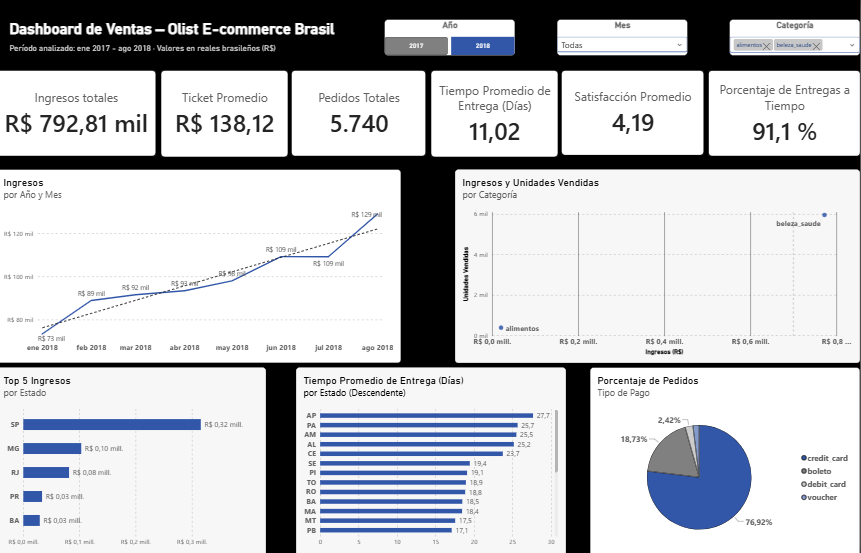

This screenshot's page, from the dashboard's own definition file:
{"tool":"powerbi","page":{"name":"KPIs","canvas":[1920,1250],"ordinal":0},"visuals":[{"type":"barChart","fields":{"Category":["brazilian_ecommerce tabla_analitica.customer_state"],"Y":["Medidas.ventas totales"]},"box":[0,830,600,420],"z":0},{"type":"cardVisual","fields":{"Data":["Medidas.ventas totales"]},"box":[0.8,170,355,190],"z":1000},{"type":"cardVisual","fields":{"Data":["Medidas.Pedidos Totales"]},"box":[657.6,170,298,190],"z":2000},{"type":"barChart","title":"Tiempo Promedio de Entrega (Días)","fields":{"Category":["brazilian_ecommerce tabla_analitica.customer_state"],"Y":["Medidas.Tiempo Promedio de Entrega"]},"box":[665.8,830,600,420],"z":3000},{"type":"cardVisual","fields":{"Data":["Medidas.Ticket Promedio"]},"box":[365.7,170,282,192],"z":4000},{"type":"cardVisual","fields":{"Data":["Medidas.Tiempo Promedio de Entrega"]},"box":[965.5,170,282,192],"z":5000},{"type":"lineChart","fields":{"Category":["brazilian_ecommerce tabla_analitica.order_purchase_timestamp.Variación.Jerarquía de fechas.Año","brazilian_ecommerce tabla_analitica.order_purchase_timestamp.Variación.Jerarquía de fechas.Mes"],"Y":["Medidas.Ingresos Totales"]},"box":[0,390,900,430],"z":6000},{"type":"cardVisual","fields":{"Data":["Medidas.Satisfaccion Promedio"]},"box":[1257.4,170,316,188],"z":7000},{"type":"scatterChart","title":"Ingresos y Unidades Vendidas","fields":{"Category":["brazilian_ecommerce tabla_analitica.product_category_name"],"X":["Medidas.ventas totales"],"Y":["Medidas.Cantidad Items"]},"box":[1020,390,900,430],"z":8000},{"type":"pieChart","title":"Porcentaje de Pedidos por Tipo de Pago","fields":{"Category":["brazilian_ecommerce tabla_analitica.tipo_pago_principal"],"Y":["Medidas.Pedidos Totales"]},"box":[1320,830,600,420],"z":9000},{"type":"cardVisual","fields":{"Data":["Medidas.porcentaje de entregas a tiempo"]},"box":[1583.3,170,337.5,190],"z":10000},{"type":"textbox","title":"Dashboard de Ventas – Olist E-commerce Brasil","box":[28.3,55,740,44],"z":11000},{"type":"advancedSlicerVisual","fields":{"Values":["brazilian_ecommerce tabla_analitica.order_purchase_timestamp.Variación.Jerarquía de fechas.Año"]},"box":[864.3,56.4,290,80],"z":12000,"group":"g1"},{"type":"textbox","title":"Período analizado: ene 2017 - ago 2018 · Valores en reales brasileños (R$)","box":[28.3,110,720,26],"z":12000},{"type":"group","id":"g1","title":"Grupo 1","box":[864.3,55.7,1055.7,80],"z":13000},{"type":"listSlicer","fields":{"Values":["brazilian_ecommerce tabla_analitica.nombre_mes"]},"box":[1247.2,56.4,290,80],"z":13000,"group":"g1"},{"type":"listSlicer","title":"Categoría","fields":{"Values":["brazilian_ecommerce tabla_analitica.product_category_name"]},"box":[1630,55.7,290,80],"z":14000,"group":"g1"}]}

Visuals, with their boxes in screenshot pixels (x1, y1, x2, y2), scaled from the page's 1920x1250 canvas onto the 861x553 screenshot:
barChart - brazilian_ecommerce tabla_analitica.customer_state x Medidas.ventas totales: {"x1": 0, "y1": 367, "x2": 269, "y2": 552}
cardVisual - Medidas.ventas totales: {"x1": 0, "y1": 75, "x2": 160, "y2": 159}
cardVisual - Medidas.Pedidos Totales: {"x1": 295, "y1": 75, "x2": 429, "y2": 159}
"Tiempo Promedio de Entrega (Días)" barChart: {"x1": 299, "y1": 367, "x2": 568, "y2": 552}
cardVisual - Medidas.Ticket Promedio: {"x1": 164, "y1": 75, "x2": 290, "y2": 160}
cardVisual - Medidas.Tiempo Promedio de Entrega: {"x1": 433, "y1": 75, "x2": 559, "y2": 160}
lineChart - brazilian_ecommerce tabla_analitica.order_purchase_timestamp.Variación.Jerarquía de fechas.Año x brazilian_ecommerce tabla_analitica.order_purchase_timestamp.Variación.Jerarquía de fechas.Mes: {"x1": 0, "y1": 173, "x2": 404, "y2": 363}
cardVisual - Medidas.Satisfaccion Promedio: {"x1": 564, "y1": 75, "x2": 706, "y2": 158}
"Ingresos y Unidades Vendidas" scatterChart: {"x1": 457, "y1": 173, "x2": 860, "y2": 363}
"Porcentaje de Pedidos por Tipo de Pago" pieChart: {"x1": 592, "y1": 367, "x2": 860, "y2": 552}
cardVisual - Medidas.porcentaje de entregas a tiempo: {"x1": 710, "y1": 75, "x2": 860, "y2": 159}
"Dashboard de Ventas – Olist E-commerce Brasil" textbox: {"x1": 13, "y1": 24, "x2": 345, "y2": 44}
advancedSlicerVisual - brazilian_ecommerce tabla_analitica.order_purchase_timestamp.Variación.Jerarquía de fechas.Año: {"x1": 388, "y1": 25, "x2": 518, "y2": 60}
"Período analizado: ene 2017 - ago 2018 · Valores en reales brasileños (R$)" textbox: {"x1": 13, "y1": 49, "x2": 336, "y2": 60}
"Grupo 1" group: {"x1": 388, "y1": 25, "x2": 860, "y2": 60}
listSlicer - brazilian_ecommerce tabla_analitica.nombre_mes: {"x1": 559, "y1": 25, "x2": 689, "y2": 60}
"Categoría" listSlicer: {"x1": 731, "y1": 25, "x2": 860, "y2": 60}
